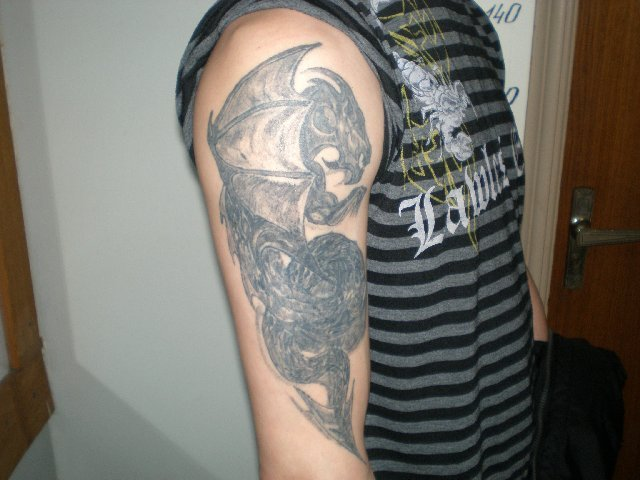tatu6_drakon: (196, 34, 383, 467)
